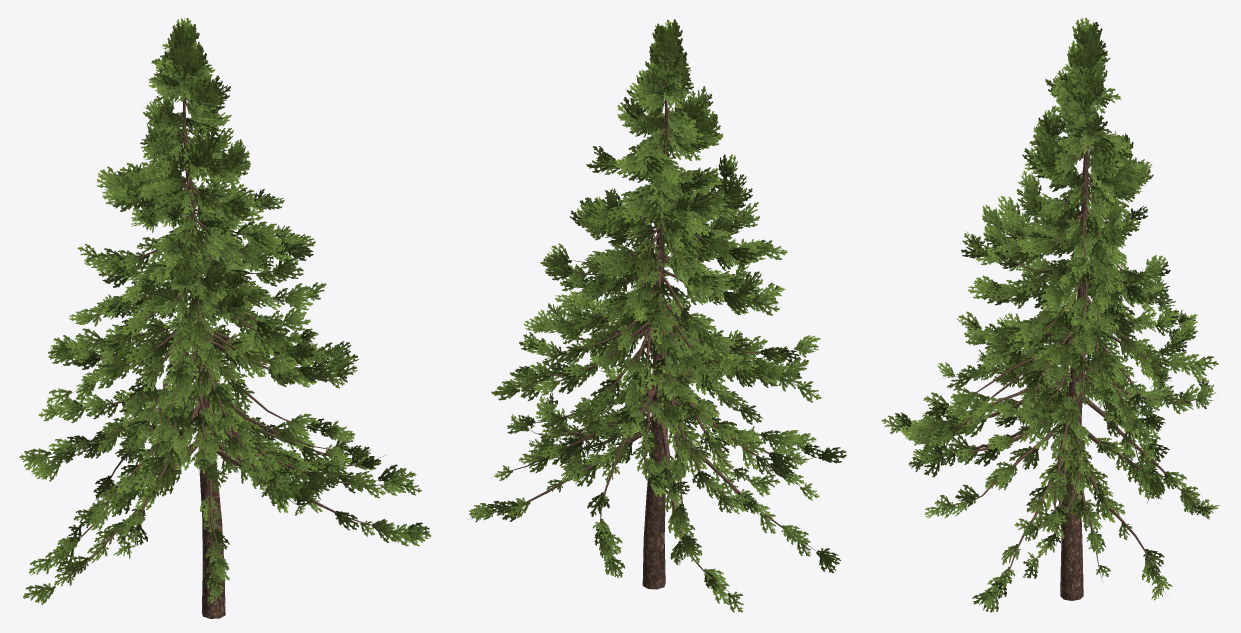
Rendered from SM_PineTree_A_ez.gltf.
The picture shows the model from 3 angles, left to right: view 1: azimuth 30°, elevation 25°; view 2: azimuth 150°, elevation 25°; view 3: azimuth 270°, elevation 25°; orthographic projection. The views are drawn at different scales.
Visible parts, largest first — view 1: SM_PineTree_A_ez; view 2: SM_PineTree_A_ez; view 3: SM_PineTree_A_ez.
Part boxes in pixels (left/top/right/bottom): SM_PineTree_A_ez: left=19, top=17, right=430, bottom=618; SM_PineTree_A_ez: left=468, top=19, right=846, bottom=612; SM_PineTree_A_ez: left=881, top=17, right=1219, bottom=612.
Bounding box in the file's own units: 9.16 × 14 × 7.8.
2 materials, 2 textured.
